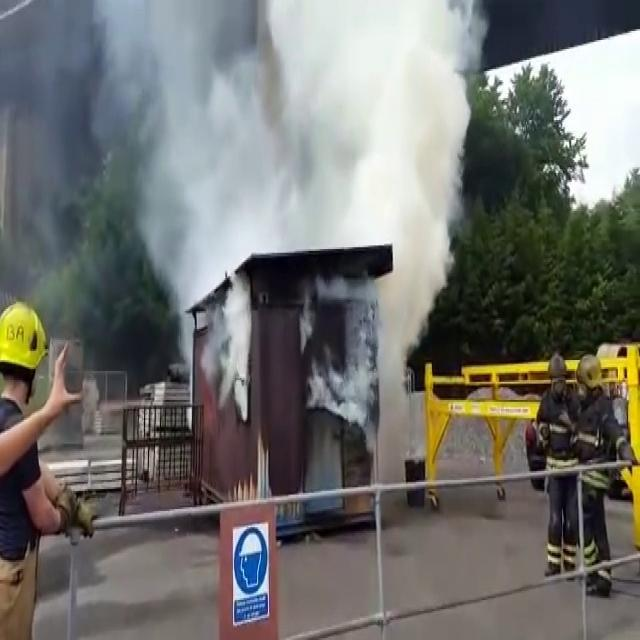Smoke: (153, 6, 452, 400)
